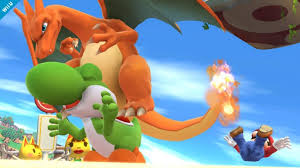charizard: (13, 1, 231, 140)
